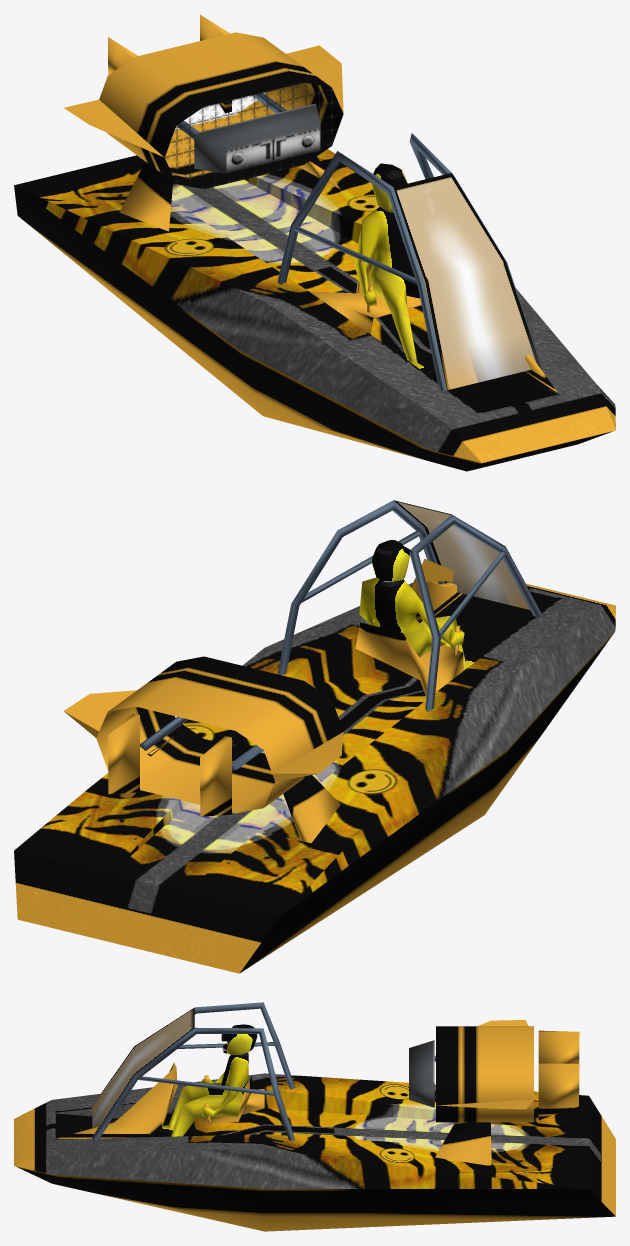
Rendered from Air Boat.glb.
3 views of the same model, one above another, from view 1: azimuth 30°, elevation 25°; view 2: azimuth 150°, elevation 25°; view 3: azimuth 270°, elevation 25° (orthographic). The views are drawn at different scales.
Visible parts, largest first — view 1: Hull, grille, Body, Turbo right, grille2, Head; view 2: Hull, Turbo right, Turbo left, grille, Body, Rudder 01, Rudder 02, Head; view 3: Hull, Turbo left, Body, grille, Rudder 02, Rudder 01, Turbo right, Head.
Part boxes in pixels (x1,y1,x2,y2): Hull: (14, 32, 615, 471); grille: (393, 173, 540, 390); Body: (354, 207, 433, 373); Turbo right: (14, 161, 136, 234); grille2: (165, 82, 343, 188); Head: (371, 163, 407, 212); Hull: (14, 500, 615, 973); Turbo right: (184, 830, 348, 915); Turbo left: (14, 789, 172, 873); grille: (394, 500, 529, 609); Body: (359, 577, 476, 670); Rudder 01: (200, 736, 231, 816); Rudder 02: (108, 713, 139, 794); Head: (371, 540, 410, 581); Hull: (14, 1002, 615, 1231); Turbo left: (491, 1148, 588, 1188); Body: (160, 1052, 248, 1136); grille: (92, 1007, 194, 1138); Rudder 02: (538, 1062, 579, 1119); Rudder 01: (538, 1030, 579, 1063); Turbo right: (491, 1091, 588, 1129); Head: (221, 1024, 257, 1054).
Bounding box in the file's own units: 1.8 × 1.6 × 4.93.
Materials: 3 (3 with a texture image).
